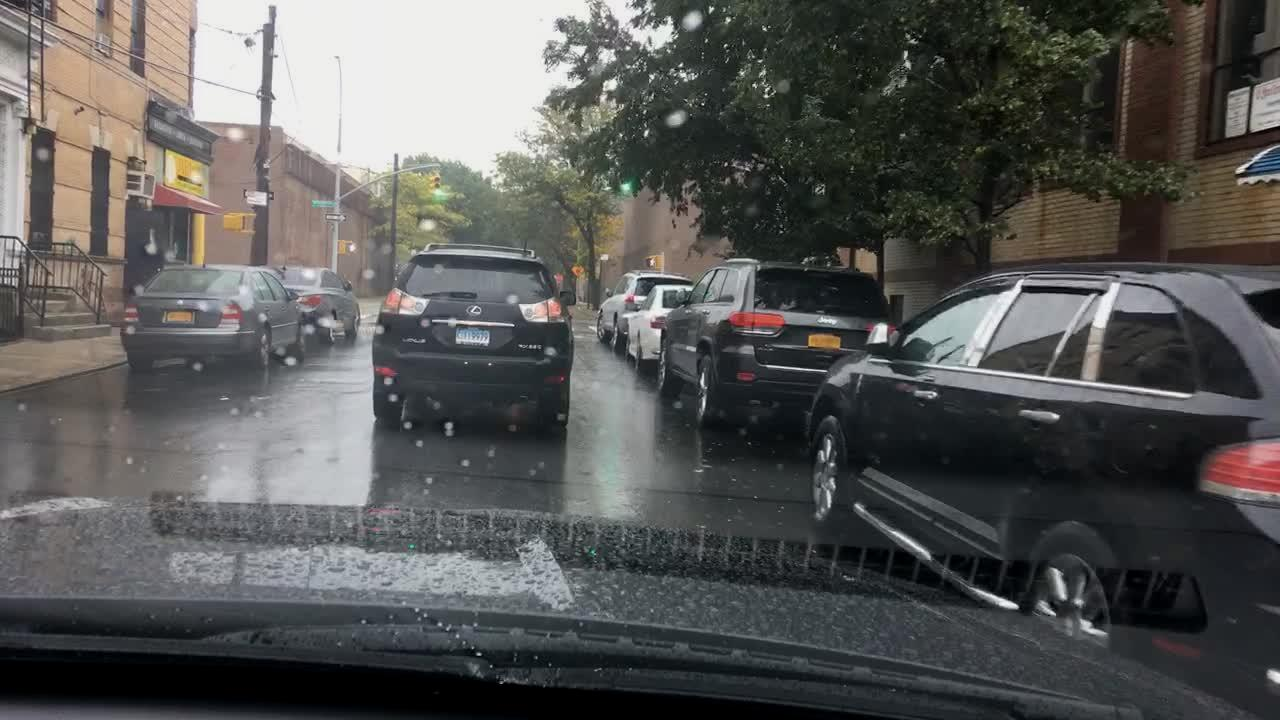jeep: (808, 311, 843, 332)
lexus: (463, 303, 488, 321)
